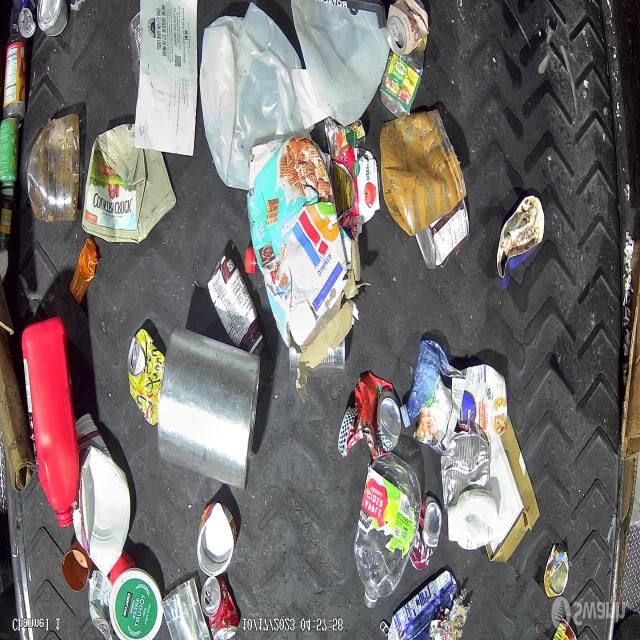can: (337, 371, 402, 460), (417, 359, 467, 452), (414, 197, 470, 271), (440, 432, 490, 511), (128, 326, 165, 426), (200, 576, 241, 640), (410, 494, 443, 573), (385, 0, 429, 58), (288, 338, 346, 377), (536, 550, 564, 604), (36, 0, 69, 38), (17, 0, 37, 40)
milk_jug: (200, 2, 316, 191), (291, 0, 390, 125)
non_white_jug: (21, 321, 78, 533)
plastic_bottle: (354, 454, 422, 609)
